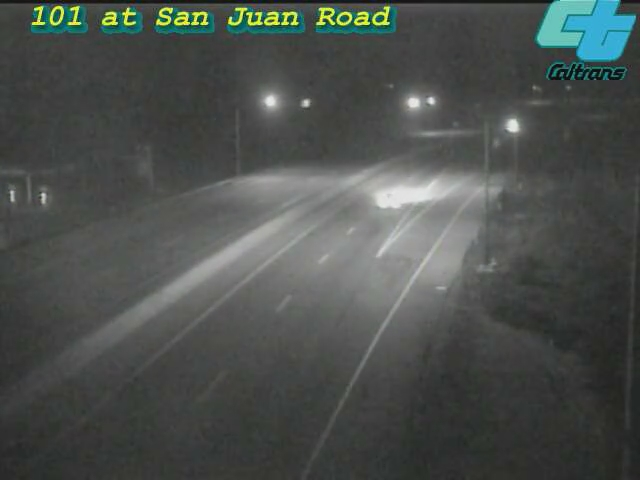vehicle: (349, 160, 429, 240), (485, 102, 535, 152)
